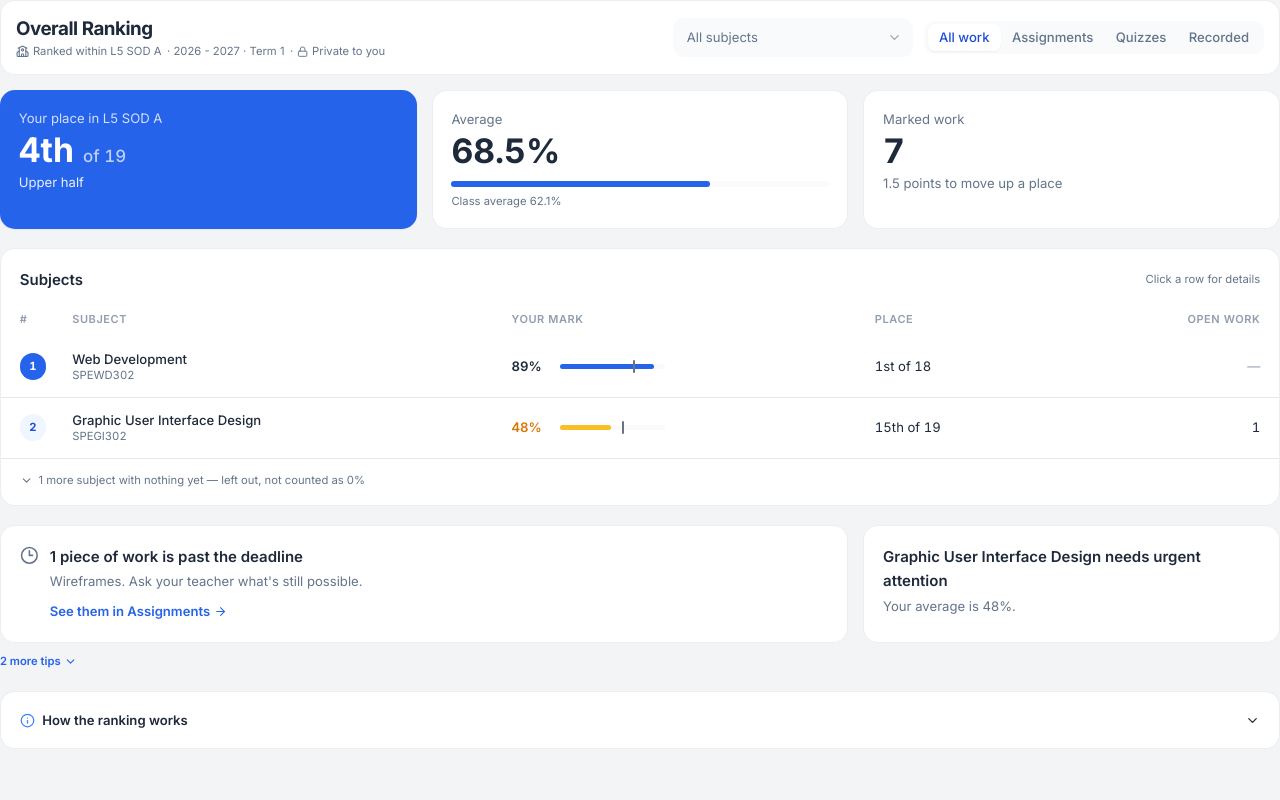
Test: Overall Ranking — student › folds extra tips and subjects with nothing in them
Expected: the text "4th" is shown, [19, 129, 74, 170]
Expected: the text "Tip 2" is not shown
Step 1. Click the button "2 more tips" → point(39, 662), box [0, 654, 78, 669]
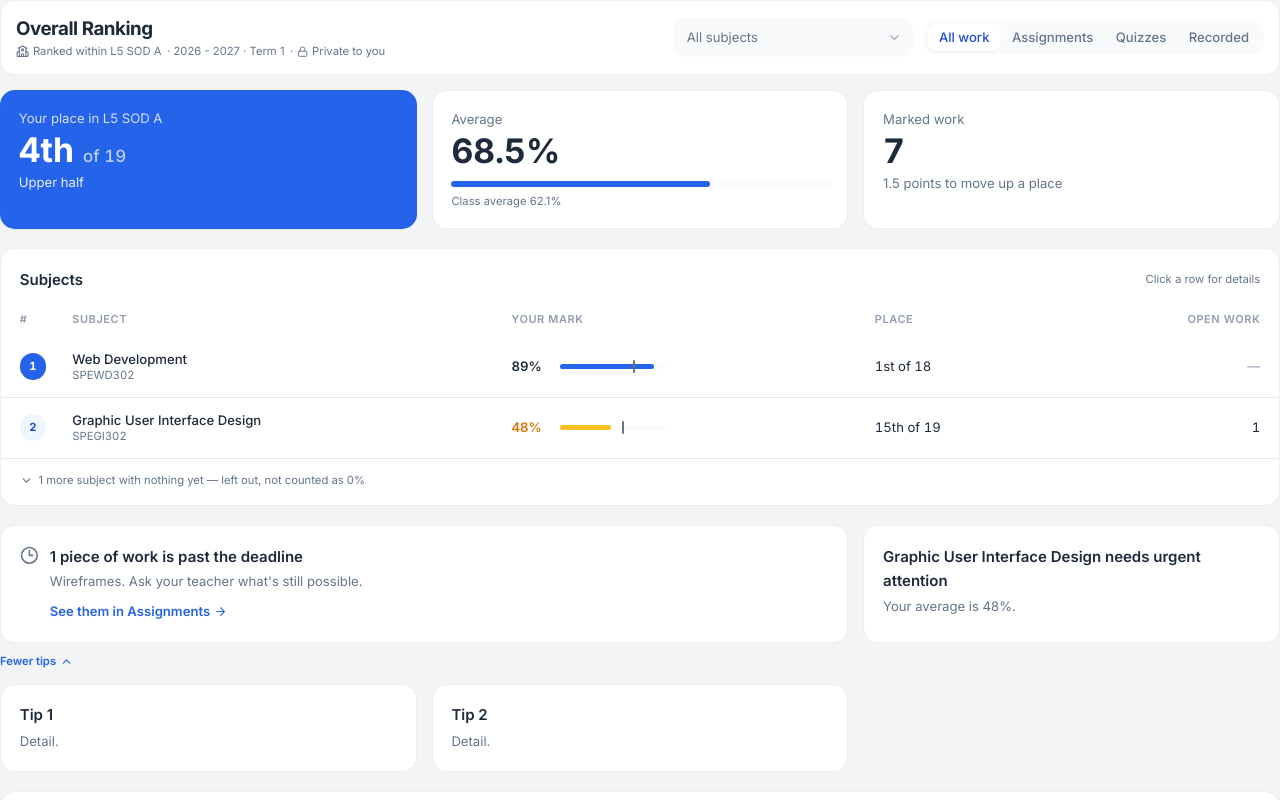
Expected: the text "Biology" is not shown
Result: the text "Tip 2" is shown at [451, 703, 488, 727]
Step 2. Click the button "1 more subject with nothing yet" → point(192, 480), box [20, 473, 365, 488]
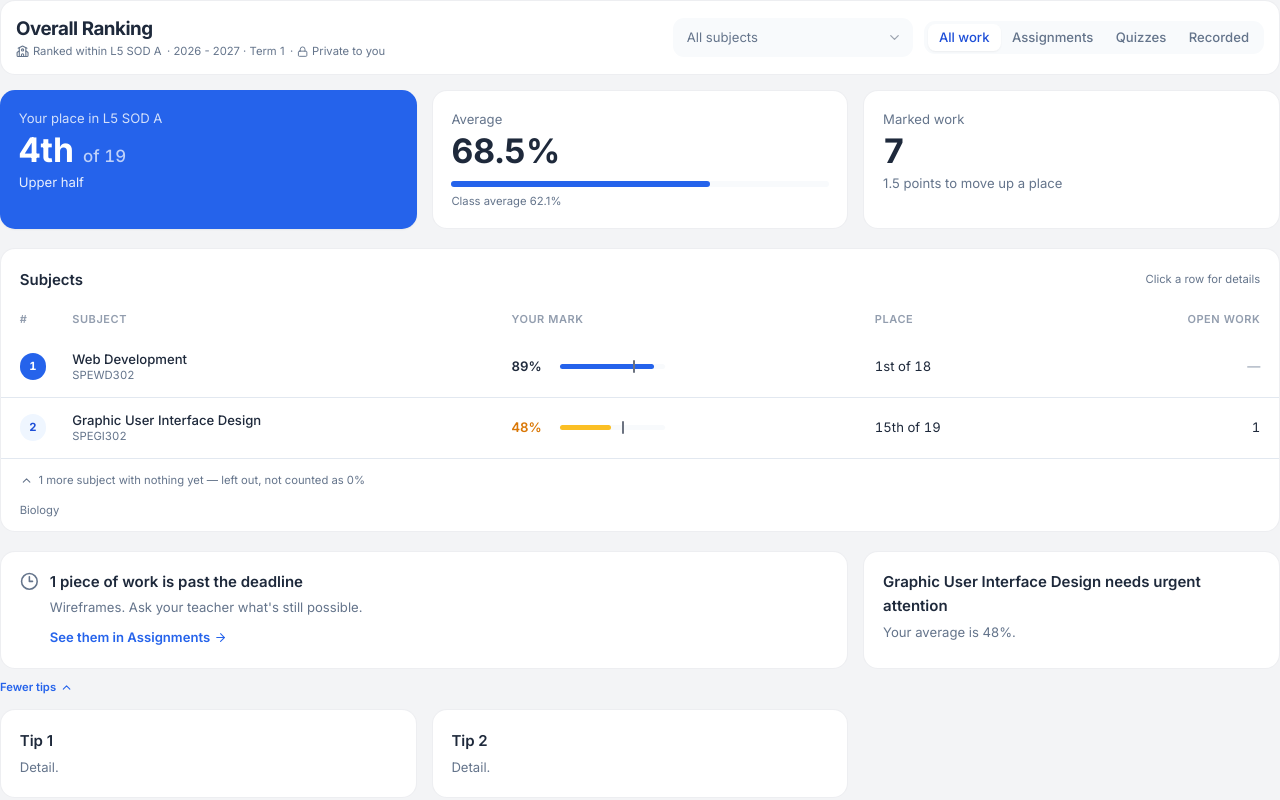
Result: the text "Biology" is shown at [20, 503, 59, 517]
